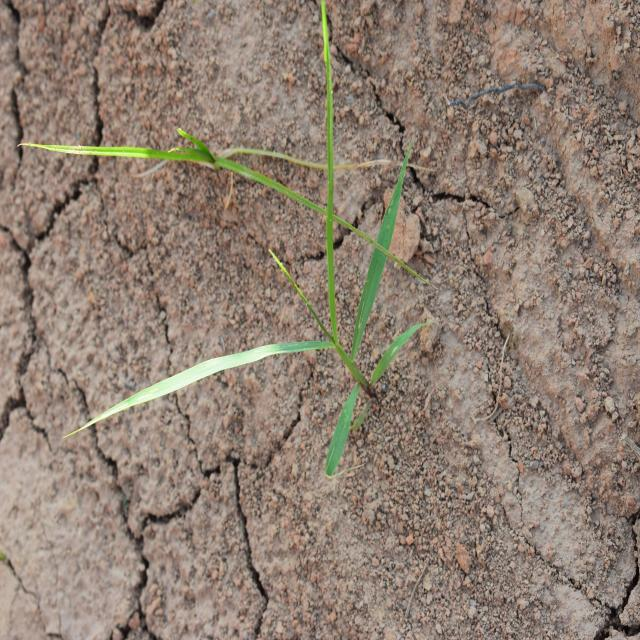green_foxtail: (147, 224, 425, 458)
